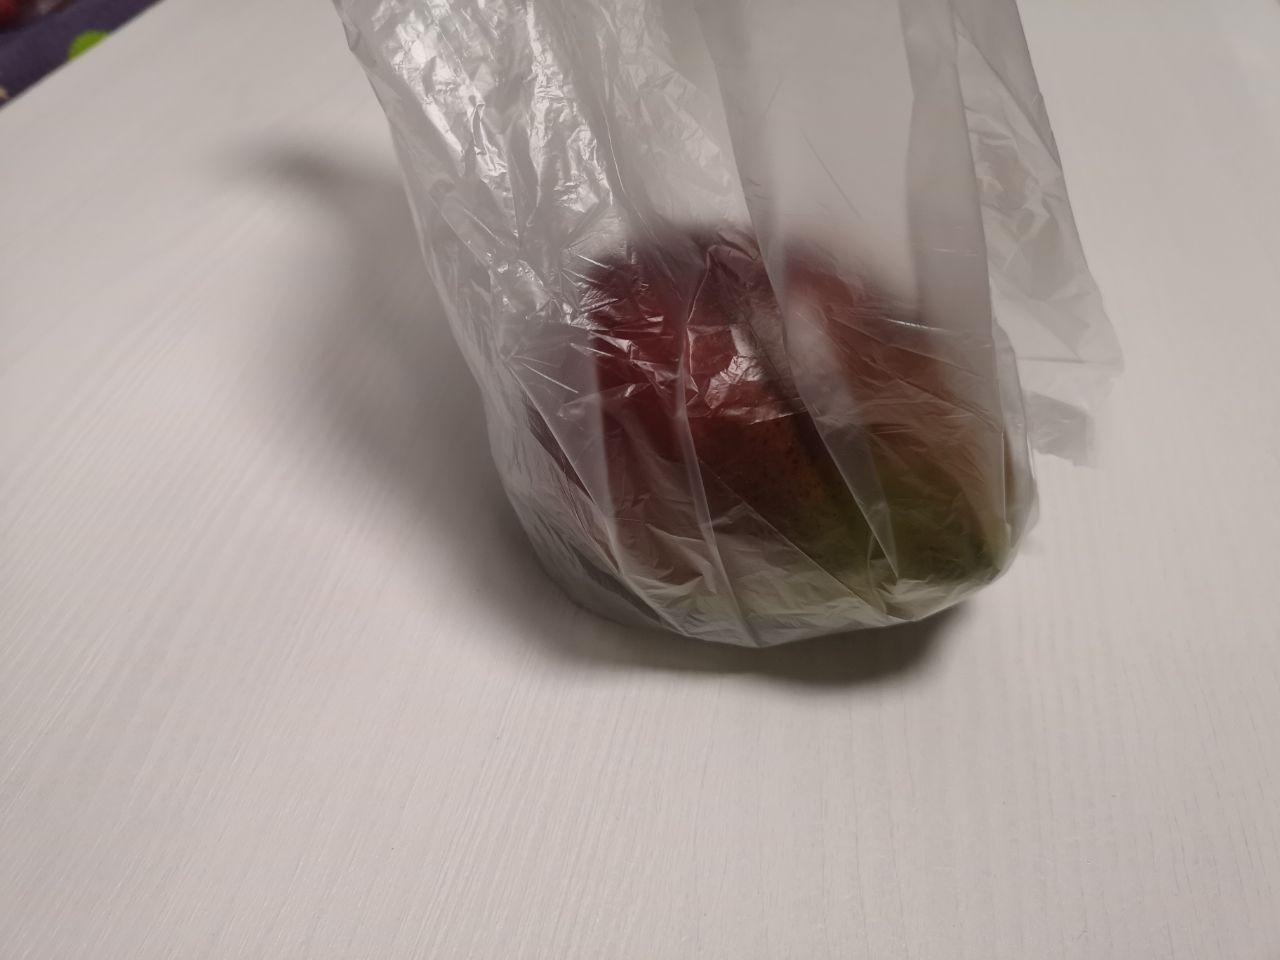mango: (393, 130, 1138, 726)
